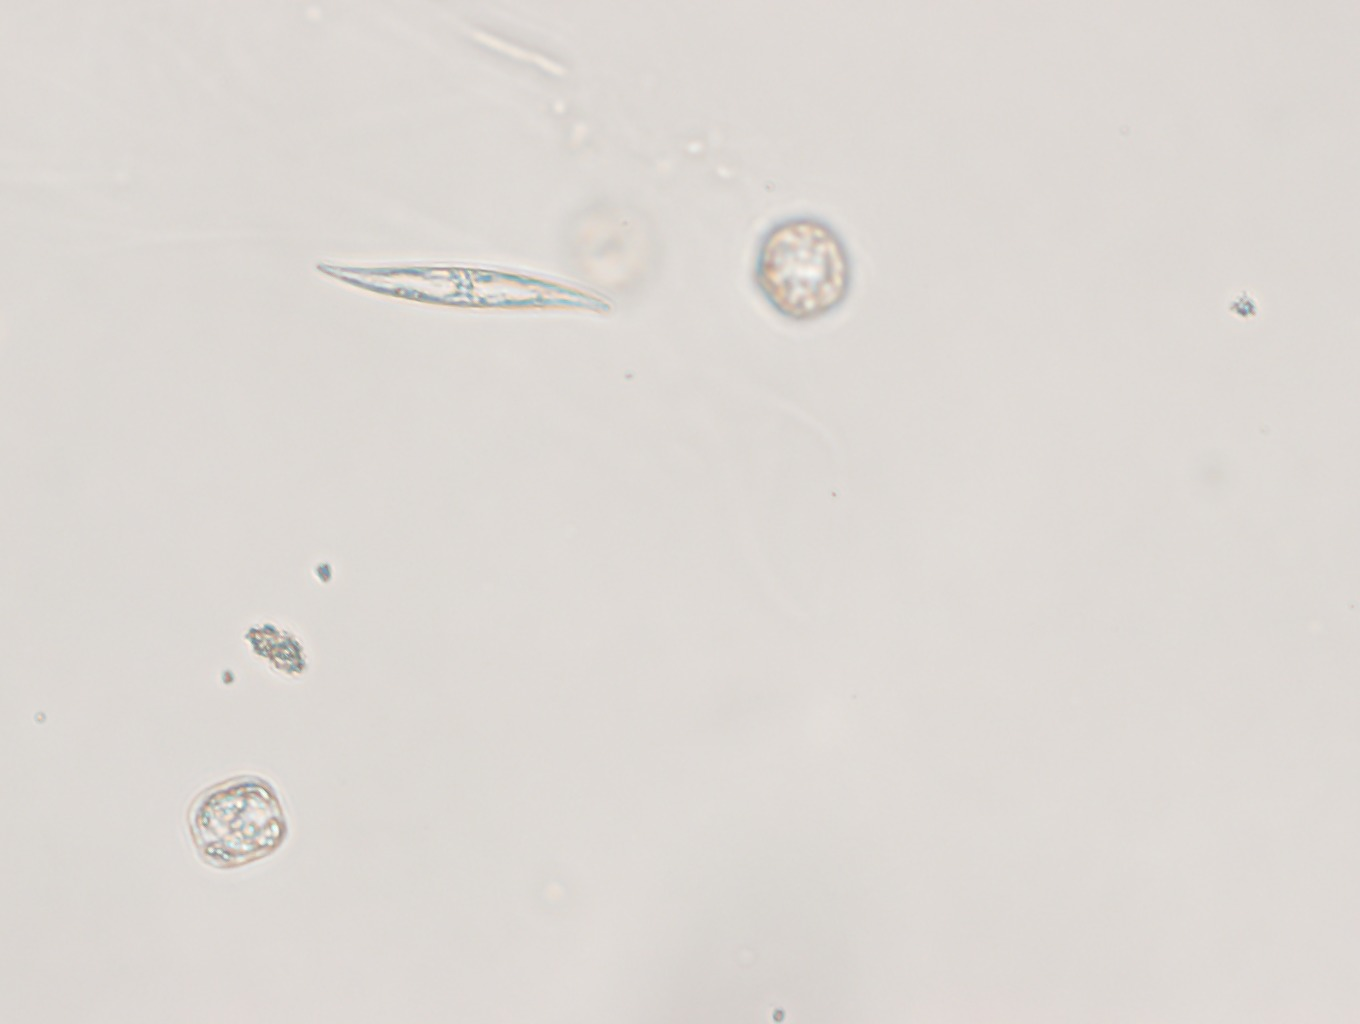coscinodiscus flank: (184, 772, 286, 872)
pleurosigma pelagicum: (309, 258, 607, 314)
